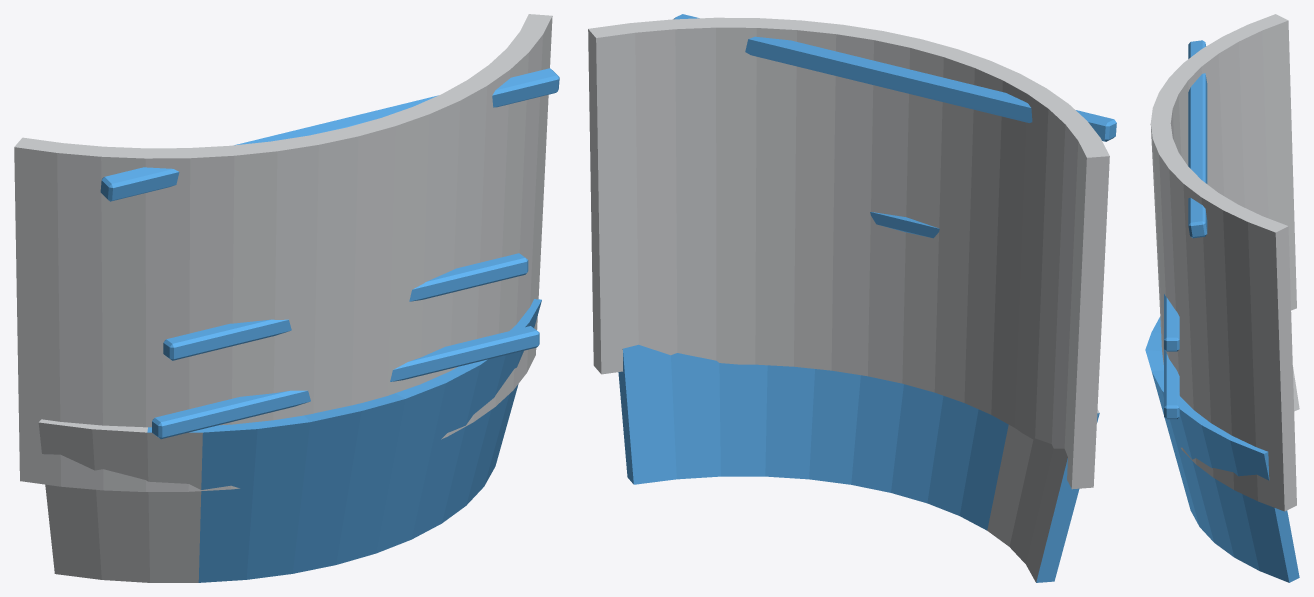
The model's file is chest__broad_guard.glb.
The picture shows the model from 3 angles, left to right: view 1: azimuth 30°, elevation 25°; view 2: azimuth 150°, elevation 25°; view 3: azimuth 270°, elevation 25°; orthographic projection. The views are drawn at different scales.
Parts seen in each view (by area): view 1: armor_armor_chest__broad_guard_v001_v001; view 2: armor_armor_chest__broad_guard_v001_v001; view 3: armor_armor_chest__broad_guard_v001_v001.
Part boxes in pixels (left/top/right/bottom): armor_armor_chest__broad_guard_v001_v001: left=14, top=14, right=559, bottom=582; armor_armor_chest__broad_guard_v001_v001: left=588, top=14, right=1116, bottom=582; armor_armor_chest__broad_guard_v001_v001: left=1145, top=14, right=1299, bottom=582.
Size of the model in its own units: 0.5952 by 0.47 by 0.1777.
